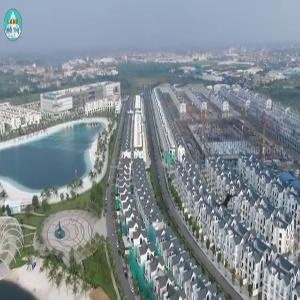drone: (206, 180, 254, 228)
